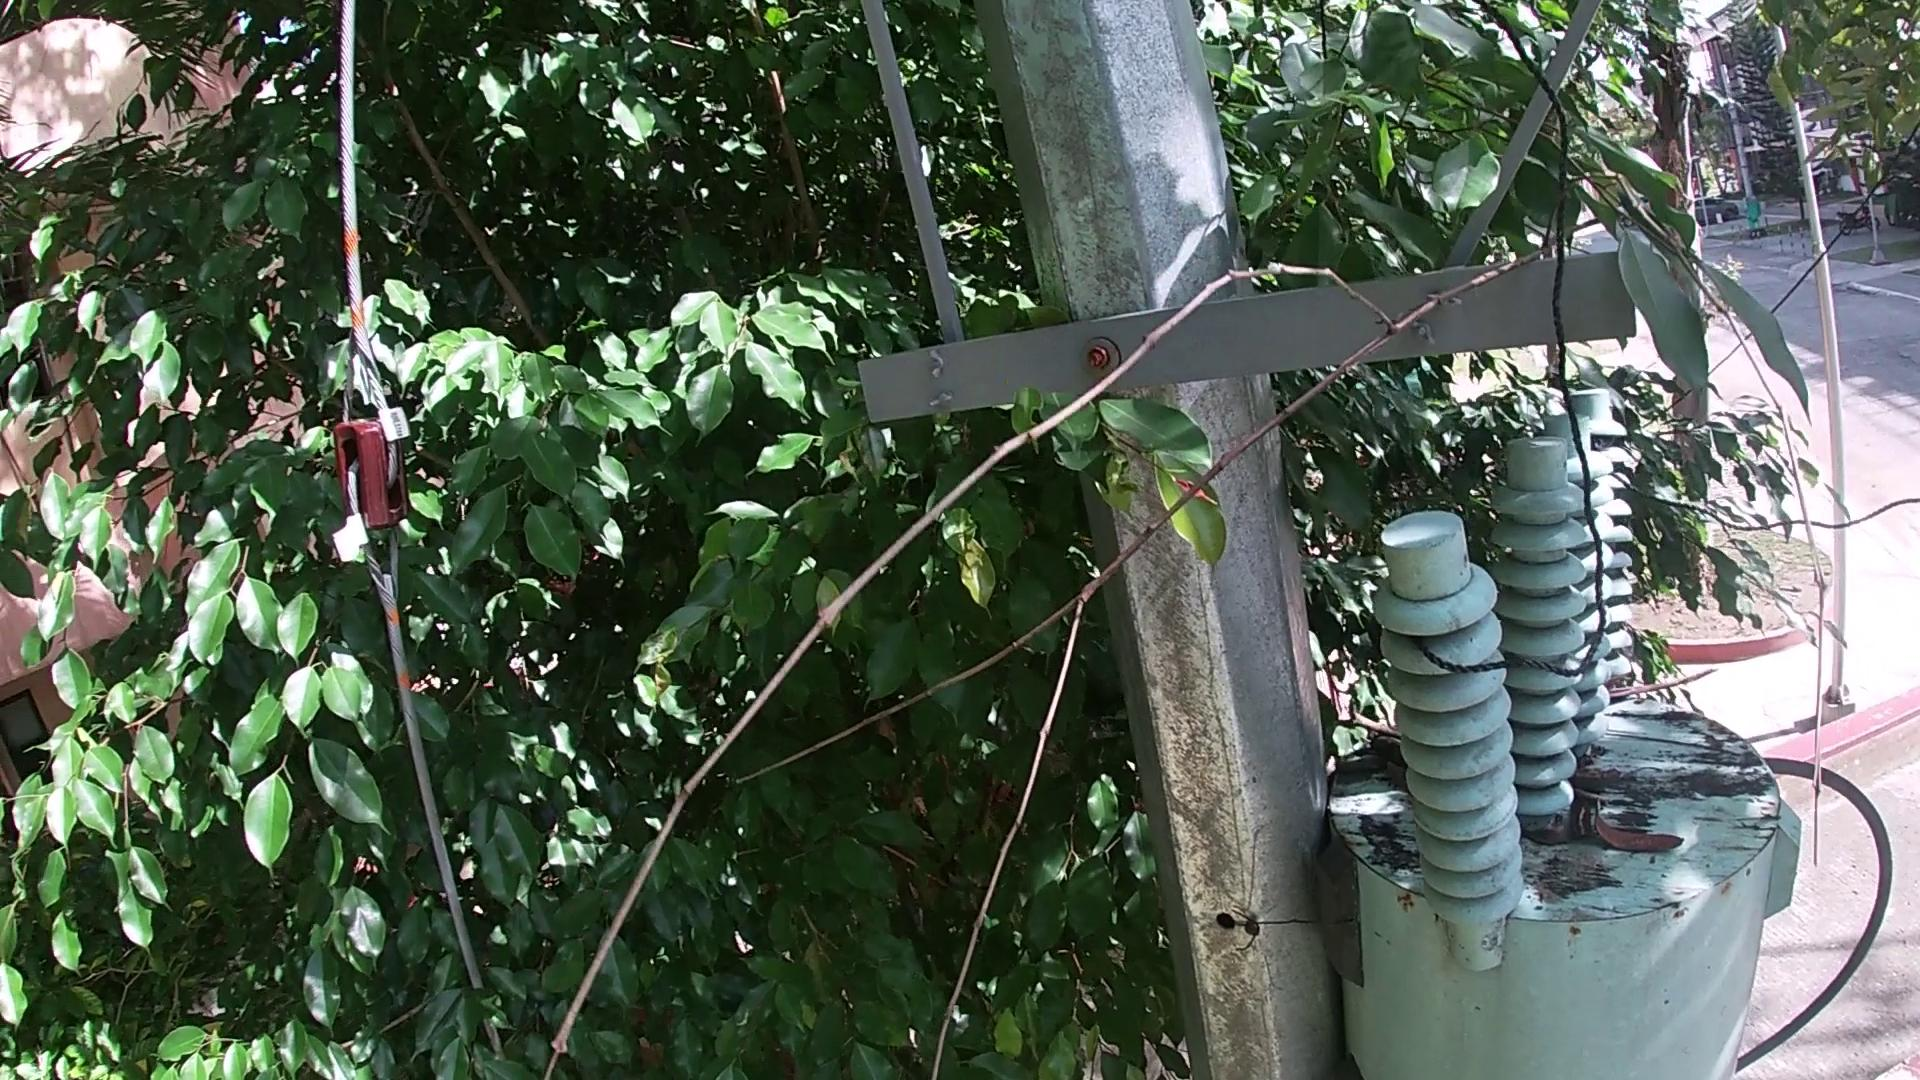leaf: (1553, 798, 1588, 843)
mahogany fruit: (1592, 807, 1720, 856), (1572, 764, 1627, 790)
tree branch: (524, 193, 1683, 1073), (1601, 651, 1731, 709), (1605, 733, 1749, 762), (1360, 732, 1410, 767), (1349, 713, 1404, 741)
